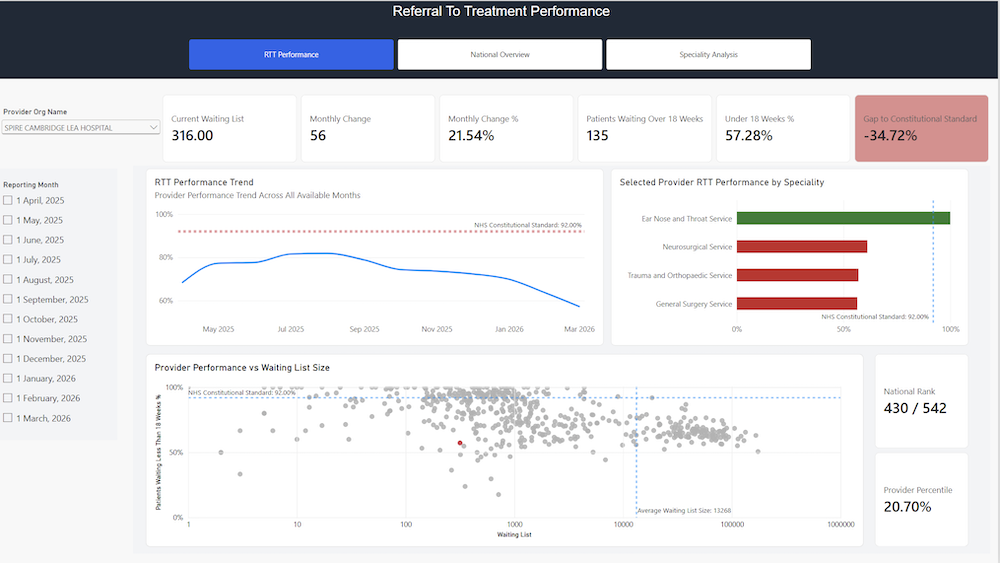

The page's visual inventory and layout, read from the dashboard file:
{"tool":"powerbi","page":{"name":"RTT Performance","canvas":[1920,1080],"ordinal":0},"visuals":[{"type":"group","id":"g1","title":"Group 1","box":[0,0,1920,1062.5],"z":0},{"type":"shape","box":[257.5,316.2,1647.5,745],"z":500,"group":"g1"},{"type":"shape","box":[0,0,1920,149.6],"z":1000,"group":"g1"},{"type":"cardVisual","fields":{"Data":["measures_table.Latest National Waiting List","measures_table.Monthly Change","measures_table.Monthly Change %","measures_table.Over 18 Weeks (Latest Month)","measures_table.Under 18 Weeks &","measures_table.Gap to Constitutional Standard"]},"box":[315,180,1590,130],"z":1000},{"type":"textbox","box":[595.2,3.3,741.6,72.8],"z":2000,"group":"g1"},{"type":"lineChart","title":"RTT Performance Trend","fields":{"Category":["dim_date.PeriodClean.Variation.Date Hierarchy.Year","dim_date.PeriodClean.Variation.Date Hierarchy.Quarter","dim_date.PeriodClean.Variation.Date Hierarchy.Month","dim_date.PeriodClean.Variation.Date Hierarchy.Day"],"Y":["measures_table.Under 18 Weeks &"]},"box":[282.5,322.5,880,340],"z":2000},{"type":"pageNavigator","box":[365.1,74.1,1197,58.7],"z":3000,"group":"g1"},{"type":"slicer","fields":{"Values":["dim_provider.Provider Org Name"]},"box":[0,204.1,315.1,81.2],"z":3000},{"type":"clusteredBarChart","title":"Selected Provider RTT Performance by Speciality","fields":{"Category":["dim_speciality.Treatment Function Name"],"Y":["measures_table.Under 18 Weeks %"]},"box":[1175.9,321.9,713.8,340.8],"z":4000},{"type":"cardVisual","fields":{"Data":["measures_table.Provider Rank Display","measures_table.Provider Percentile"]},"box":[1683.3,677.9,206.4,369.2],"z":5000},{"type":"shape","box":[0,322.1,227.8,521.6],"z":6000},{"type":"scatterChart","title":"Provider Performance vs Waiting List Size","fields":{"Category":["dim_provider.Provider Org Name"],"X":["measures_table.Latest Waiting List"],"Y":["measures_table.Under 18 Weeks %"]},"box":[282.5,677.5,1379.3,370.6],"z":6250,"group":"g2"},{"type":"scatterChart","title":"Provider Performance vs Waiting List Size","fields":{"Category":["dim_provider.Provider Org Name"],"X":["measures_table.Selected Provider Waiting List"],"Y":["measures_table.Selected Provider RTT %"]},"box":[282.5,677.5,1379.3,370.6],"z":6500,"group":"g2"},{"type":"slicer","fields":{"Values":["dim_date.PeriodClean"]},"box":[0,344.5,258.5,499.7],"z":7000},{"type":"group","id":"g2","title":"Group 2","box":[282.5,677.5,1379.3,370.6],"z":8000}]}

Visuals, with their boxes in screenshot pixels (x1, y1, x2, y2), scaled from the page's 1920x1080 canvas onto the 1000x563 screenshot:
"Group 1" group: <region>0, 0, 999, 554</region>
shape: <region>134, 165, 992, 553</region>
shape: <region>0, 0, 999, 78</region>
cardVisual - measures_table.Latest National Waiting List x measures_table.Monthly Change: <region>164, 94, 992, 162</region>
textbox: <region>310, 2, 696, 40</region>
"RTT Performance Trend" lineChart: <region>147, 168, 605, 345</region>
pageNavigator: <region>190, 39, 814, 69</region>
slicer - dim_provider.Provider Org Name: <region>0, 106, 164, 149</region>
"Selected Provider RTT Performance by Speciality" clusteredBarChart: <region>612, 168, 984, 345</region>
cardVisual - measures_table.Provider Rank Display x measures_table.Provider Percentile: <region>877, 353, 984, 546</region>
shape: <region>0, 168, 119, 440</region>
"Provider Performance vs Waiting List Size" scatterChart: <region>147, 353, 866, 546</region>
"Provider Performance vs Waiting List Size" scatterChart: <region>147, 353, 866, 546</region>
slicer - dim_date.PeriodClean: <region>0, 180, 135, 440</region>
"Group 2" group: <region>147, 353, 866, 546</region>
